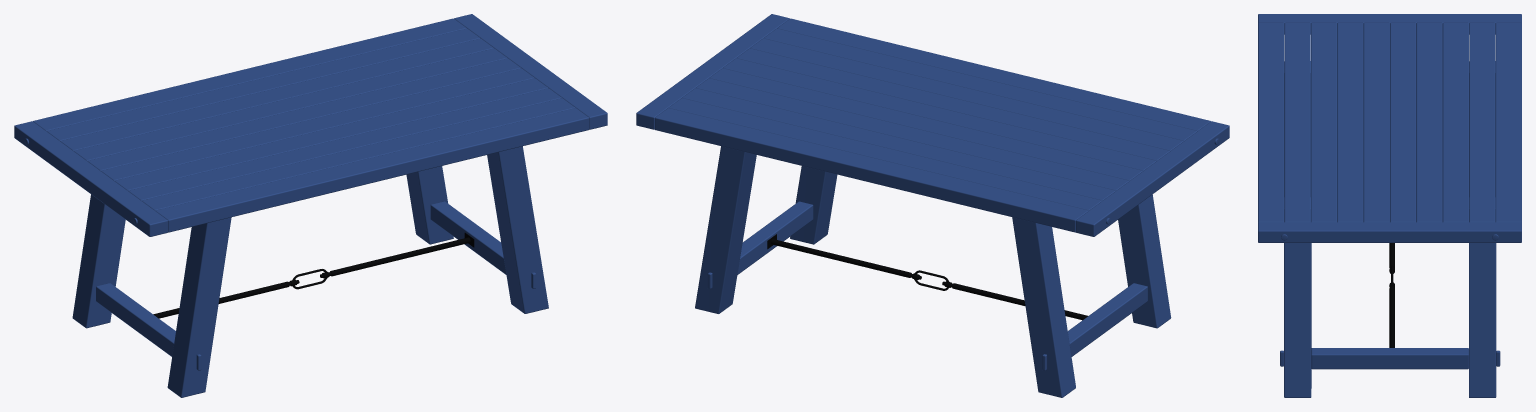
Rendered from table.FBX.
3 renders of one model, left to right at view 1: azimuth 30°, elevation 25°; view 2: azimuth 150°, elevation 25°; view 3: azimuth 270°, elevation 25°, orthographic. The views are drawn at different scales.
Parts seen in each view (by area): view 1: Box9486, Box9490, Sphere004, Box9488, Box9489, Sphere005, Sphere001, Box9491, Sphere003, Sphere006, Cylinder022; view 2: Box9486, Box9489, Sphere001, Box9488, Box9490, Sphere005, Sphere004, Box9491, Sphere003, Sphere006, Cylinder022; view 3: Box9486, Sphere005, Sphere004, Sphere001, Sphere003, Box9488, Sphere006, Box9490, Box9489.
Boxes of the visible parts, x1=… form: Box9486: x1=33, y1=18, x2=589, y2=232; Box9490: x1=167, y1=217, x2=231, y2=397; Sphere004: x1=487, y1=146, x2=548, y2=313; Box9488: x1=14, y1=121, x2=167, y2=236; Box9489: x1=72, y1=194, x2=125, y2=328; Sphere005: x1=454, y1=14, x2=607, y2=129; Sphere001: x1=406, y1=166, x2=453, y2=244; Box9491: x1=96, y1=283, x2=175, y2=356; Sphere003: x1=430, y1=201, x2=506, y2=274; Sphere006: x1=320, y1=232, x2=474, y2=277; Cylinder022: x1=153, y1=280, x2=299, y2=318; Box9486: x1=655, y1=18, x2=1210, y2=232; Box9489: x1=1012, y1=217, x2=1075, y2=397; Sphere001: x1=695, y1=146, x2=756, y2=313; Box9488: x1=1076, y1=121, x2=1229, y2=236; Box9490: x1=1118, y1=194, x2=1171, y2=328; Sphere005: x1=636, y1=14, x2=789, y2=129; Sphere004: x1=790, y1=166, x2=837, y2=244; Box9491: x1=1068, y1=283, x2=1147, y2=356; Sphere003: x1=737, y1=201, x2=813, y2=274; Sphere006: x1=767, y1=234, x2=921, y2=279; Cylinder022: x1=942, y1=281, x2=1087, y2=320; Box9486: x1=1258, y1=22, x2=1521, y2=222; Sphere005: x1=1258, y1=222, x2=1521, y2=242; Sphere004: x1=1284, y1=197, x2=1311, y2=397; Sphere001: x1=1469, y1=197, x2=1496, y2=397; Sphere003: x1=1311, y1=348, x2=1468, y2=369; Box9488: x1=1258, y1=14, x2=1521, y2=34; Sphere006: x1=1389, y1=285, x2=1394, y2=347; Box9490: x1=1284, y1=61, x2=1310, y2=196; Box9489: x1=1469, y1=61, x2=1495, y2=196.
Bounding box in the file's own units: 1892 × 965 × 762.
